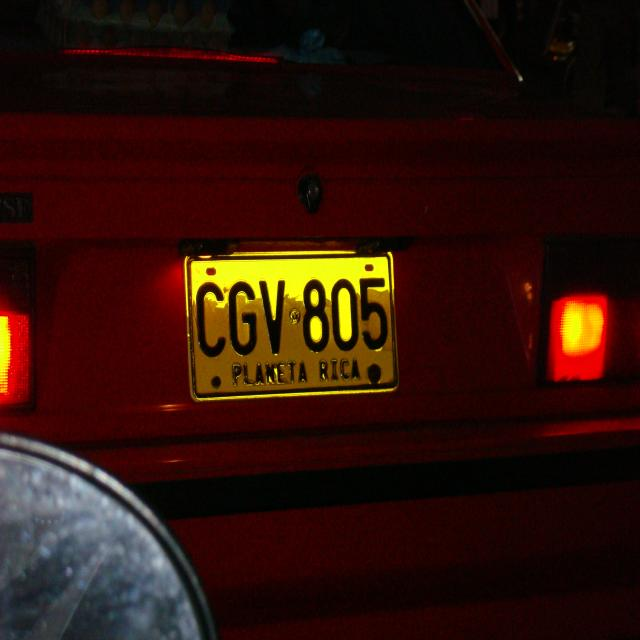placa: (177, 240, 403, 410)
